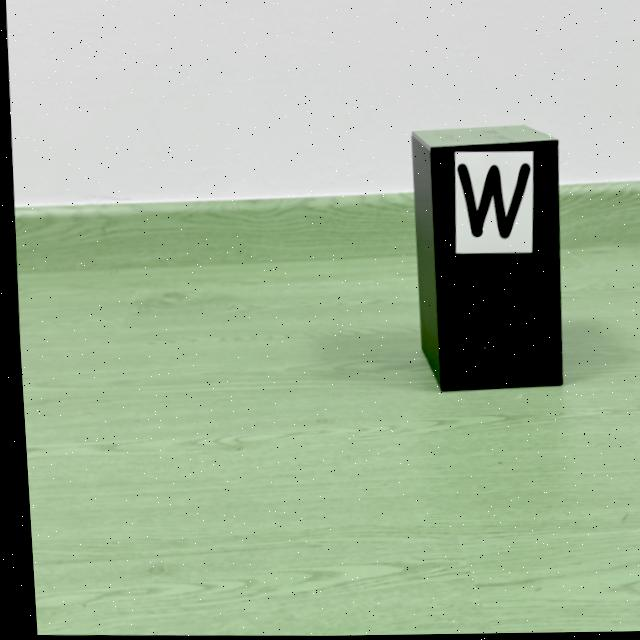W: (454, 164, 528, 241)
